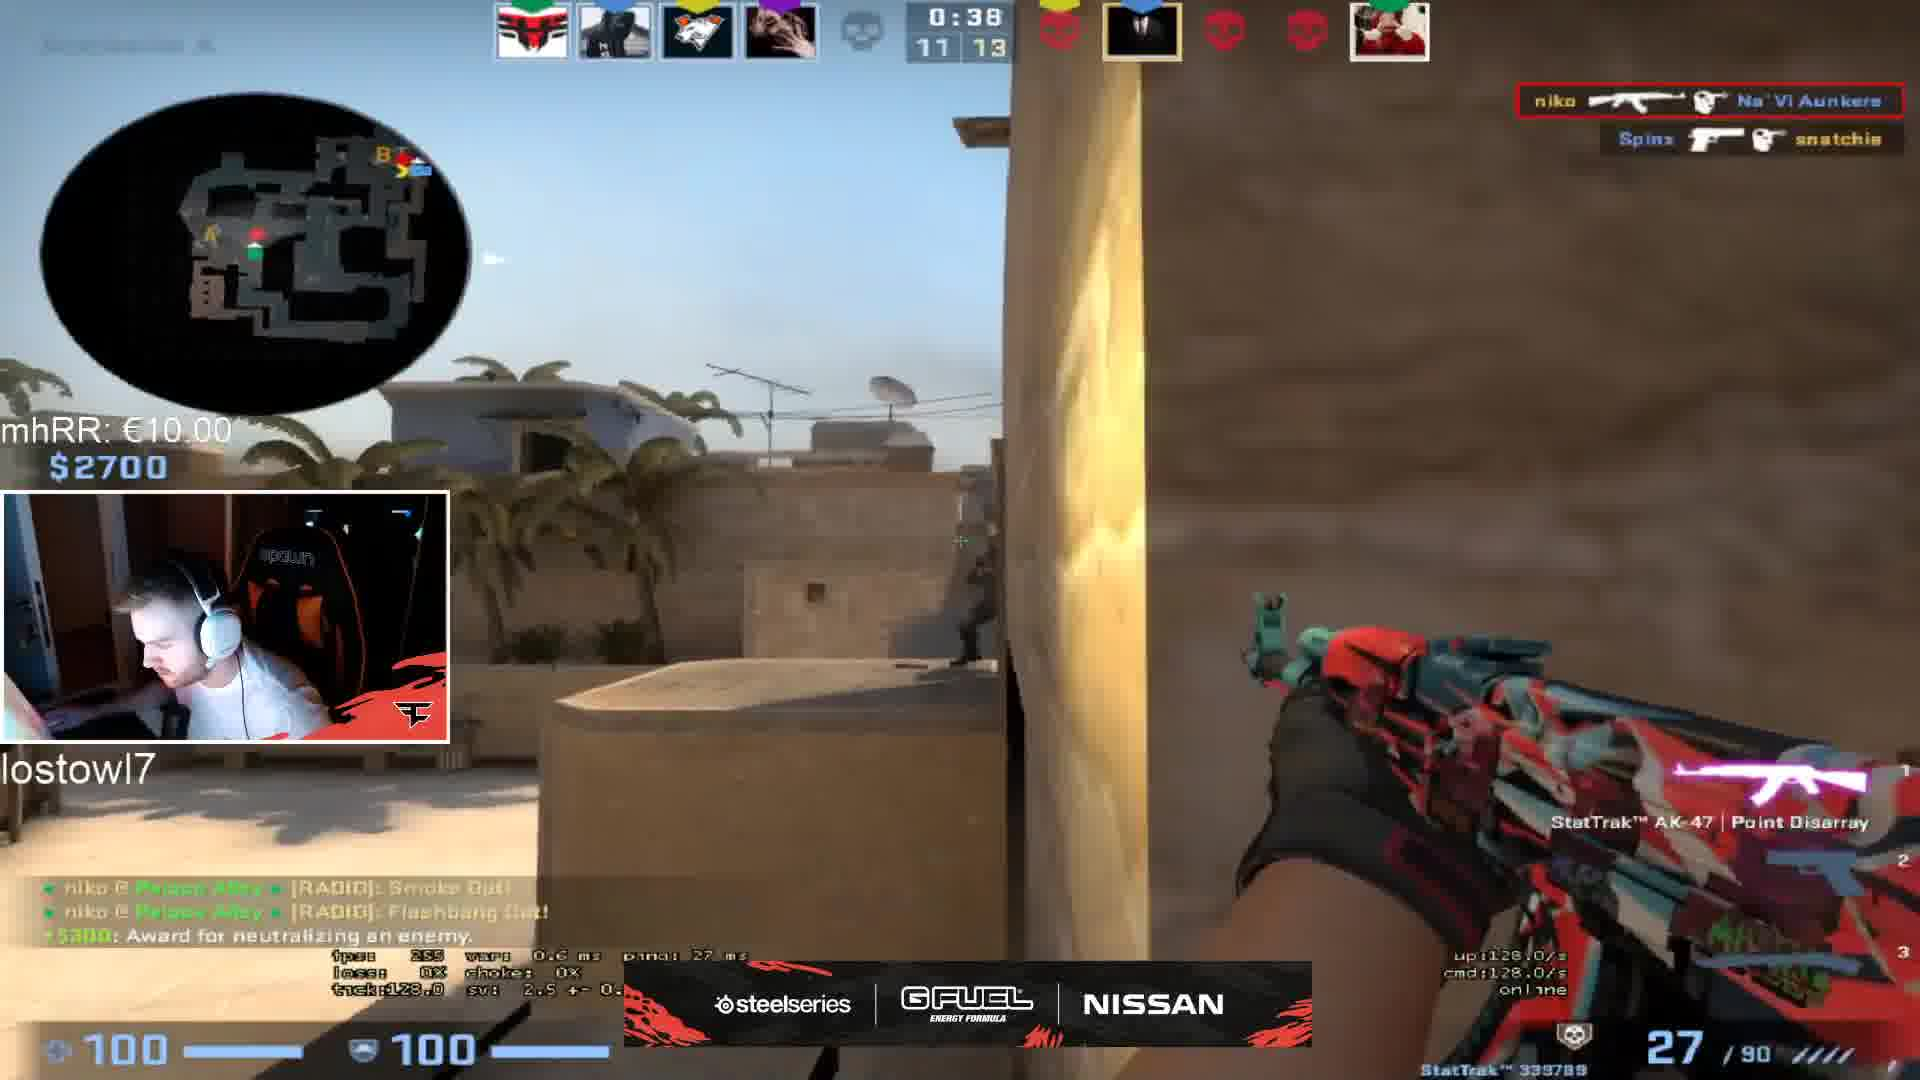enemy: (945, 541, 1007, 673)
